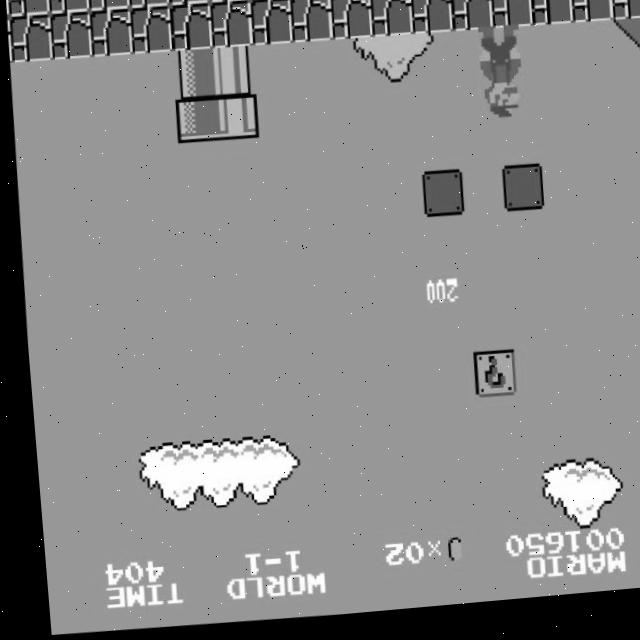0- big_mario: (474, 32, 525, 130)
13- mystery_block: (465, 357, 510, 406)
14- pipe: (210, 49, 255, 99), (170, 51, 215, 101)
15- pipe_head: (212, 95, 257, 145), (172, 97, 217, 146)
17- undestructible_block: (248, 1, 293, 51), (208, 3, 253, 53), (168, 5, 213, 55), (128, 7, 173, 57), (88, 9, 133, 59), (48, 11, 93, 61), (8, 14, 53, 64), (288, 0, 333, 48), (328, 0, 373, 47), (368, 0, 413, 44), (408, 0, 453, 43), (448, 0, 493, 40), (488, 0, 533, 38), (528, 0, 573, 36), (568, 0, 613, 34), (609, 0, 640, 32), (7, 0, 49, 18), (47, 0, 89, 16), (87, 0, 129, 14), (127, 0, 169, 11), (167, 0, 209, 9), (207, 0, 249, 8), (6, 17, 13, 63), (247, 0, 289, 5), (287, 0, 329, 3), (5, 0, 9, 17), (328, 0, 370, 1)
3- empty_block: (496, 171, 541, 221), (416, 176, 461, 226)
